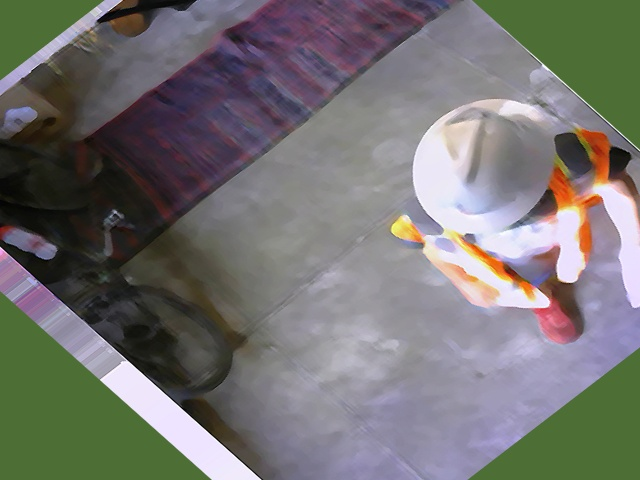three: (438, 98, 488, 139)
